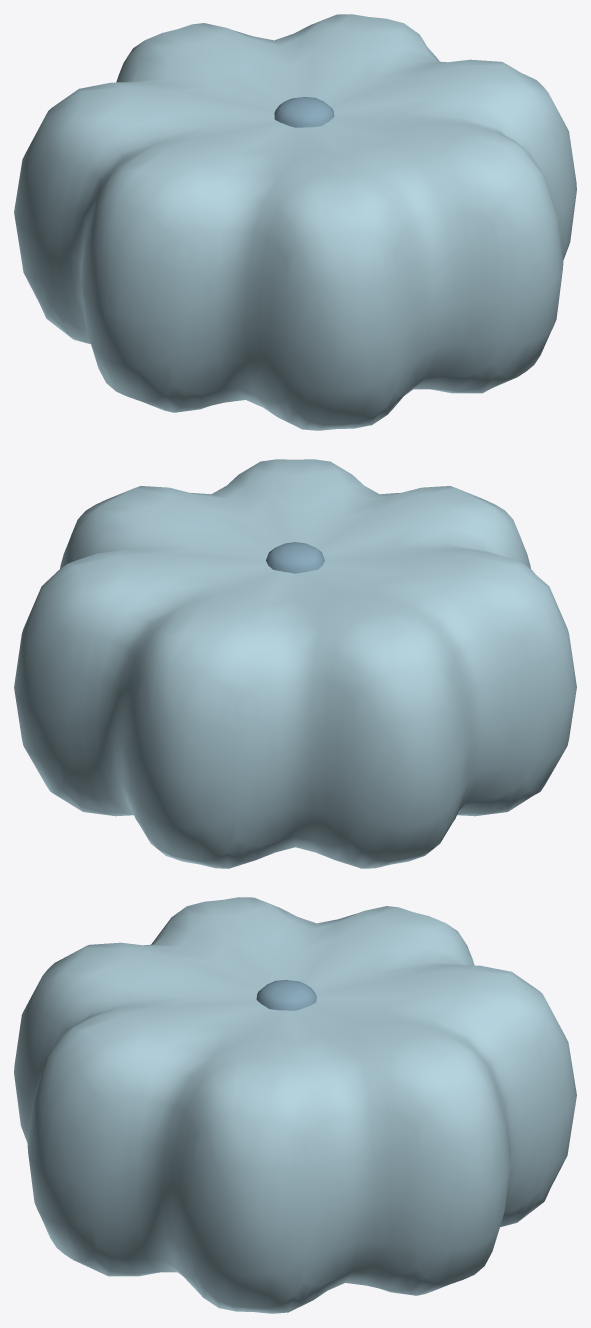
Rendered from Ottoman_3.glb.
3 views of the same model, one above another, from view 1: azimuth 30°, elevation 25°; view 2: azimuth 150°, elevation 25°; view 3: azimuth 270°, elevation 25° (orthographic).
Visible parts, largest first — view 1: Ottoman_3; view 2: Ottoman_3; view 3: Ottoman_3.
Part boxes in pixels (left/top/right/bottom): Ottoman_3: left=14, top=14, right=576, bottom=430; Ottoman_3: left=14, top=459, right=576, bottom=868; Ottoman_3: left=14, top=897, right=576, bottom=1313.
Size of the model in its own units: 0.8037 by 0.3768 by 0.7993.
1 material, 1 textured.
